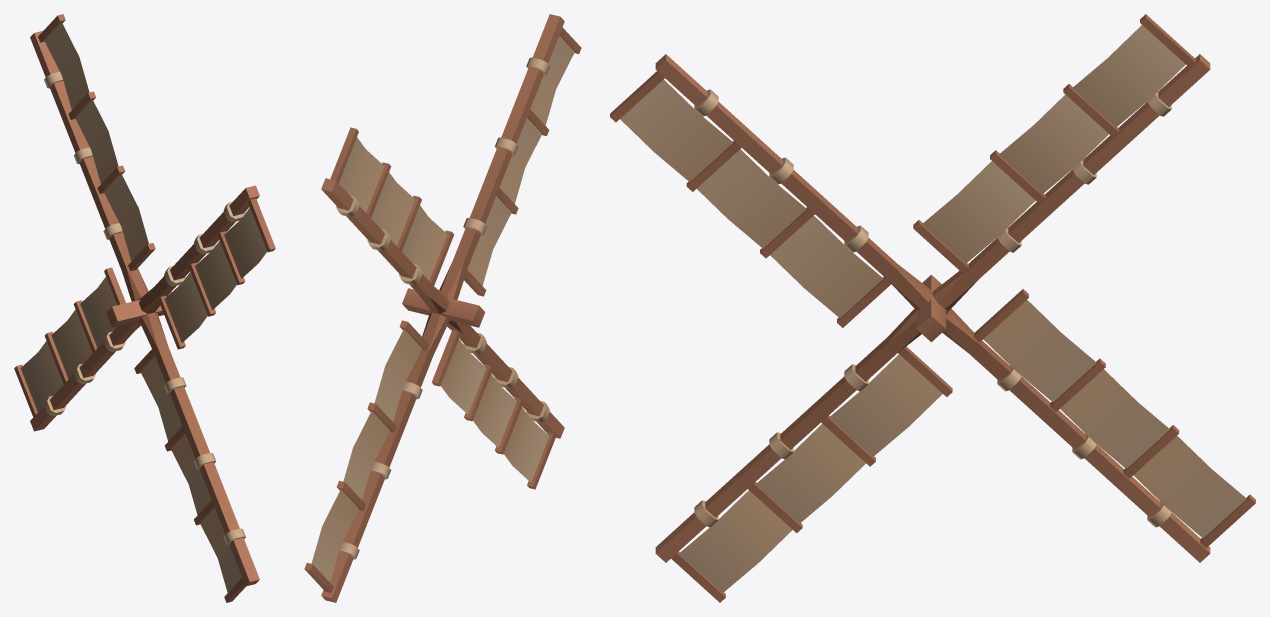
File: windmill.glb
The picture shows the model from 3 angles, left to right: view 1: azimuth 30°, elevation 25°; view 2: azimuth 150°, elevation 25°; view 3: azimuth 270°, elevation 25°; orthographic projection. The views are drawn at different scales.
Visible parts, largest first — view 1: windmill; view 2: windmill; view 3: windmill.
Part boxes in pixels (x1,y1,x2,y2): windmill: (14, 14, 275, 602); windmill: (304, 14, 581, 602); windmill: (610, 14, 1255, 602).
Bounding box in the file's own units: 0.471 × 3.11 × 3.11.
